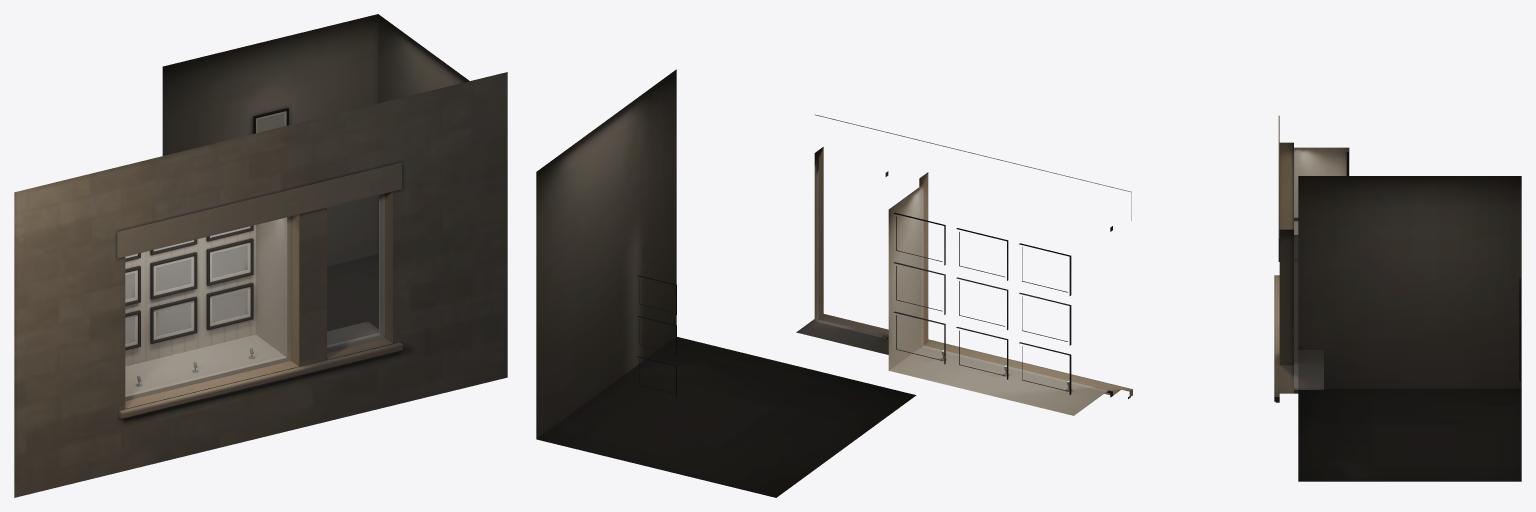
Rendered from street-window.glb.
The picture shows the model from 3 angles, left to right: view 1: azimuth 30°, elevation 25°; view 2: azimuth 150°, elevation 25°; view 3: azimuth 270°, elevation 25°; orthographic projection. The views are drawn at different scales.
Visible parts, largest first — view 1: WindowStatic, Photo_05, Photo_09, Photo_08, Photo_06; view 2: WindowStatic; view 3: WindowStatic.
Boxes of the visible parts, x1,y1,x2,y2 form: WindowStatic: (14, 14, 507, 497); Photo_05: (156, 259, 191, 292); Photo_09: (212, 290, 247, 322); Photo_08: (156, 304, 191, 336); Photo_06: (212, 245, 247, 278); WindowStatic: (536, 69, 1132, 497); WindowStatic: (1274, 115, 1521, 481).
Bounding box in the file's own units: 7.2 × 4.2 × 3.48.
Materials: 3 (2 with a texture image).
